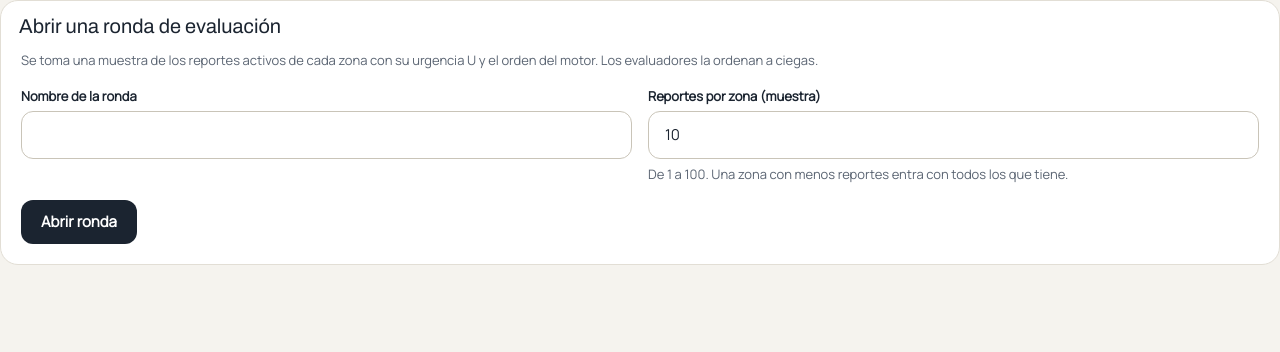
Test: abrir una ronda › no envía un tamaño fuera de 1 a 100 (0)
The image size is (1280, 352).
Type "Piloto 3" into the field labelled "Nombre de la ronda" at (326, 134), box x1=21 y1=110 x2=632 y2=158
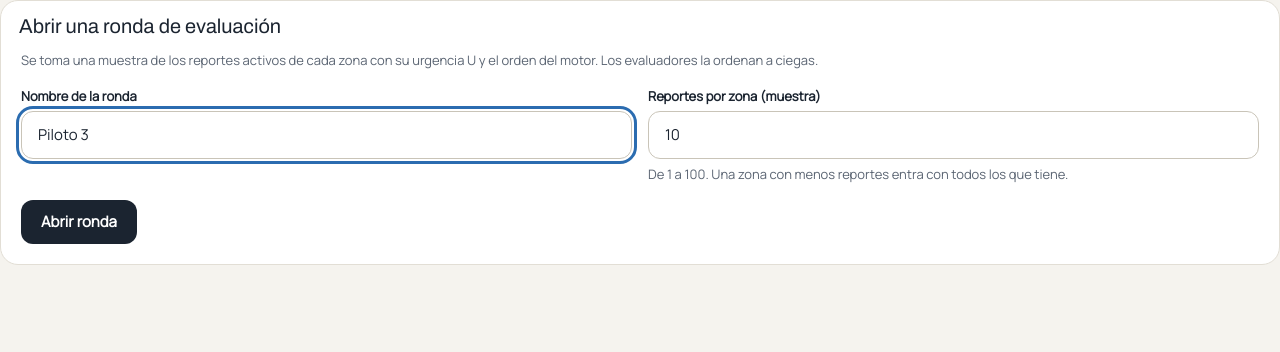
Replace the text in the field labelled "Reportes por zona (muestra)" with "0" at (954, 134), box x1=648 y1=110 x2=1259 y2=158
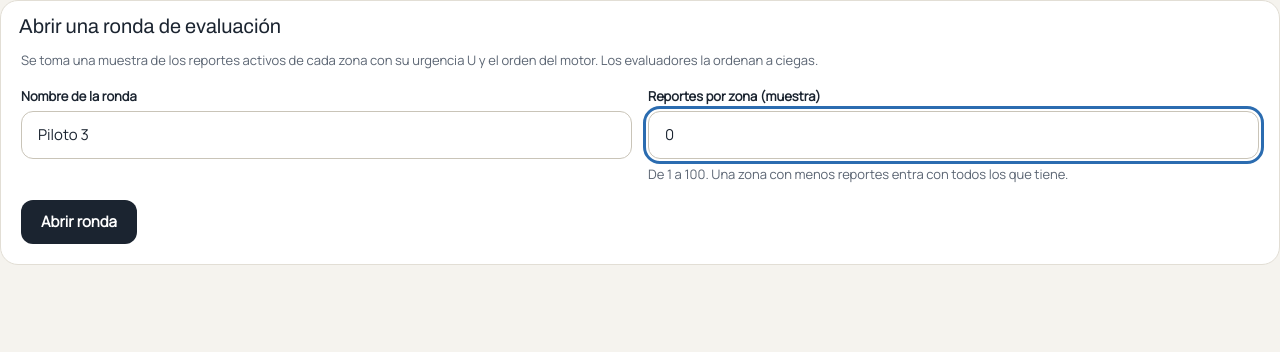
Click the button "Abrir ronda" at (79, 222), box x1=21 y1=200 x2=137 y2=244
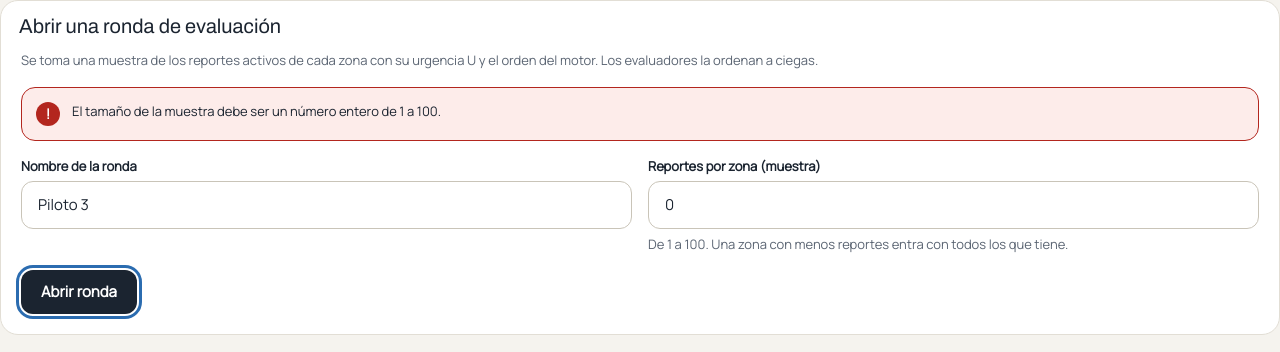
Now the message shows "El tamaño de la muestra debe ser un número entero de 1 a 100.", box x1=72 y1=102 x2=441 y2=120
